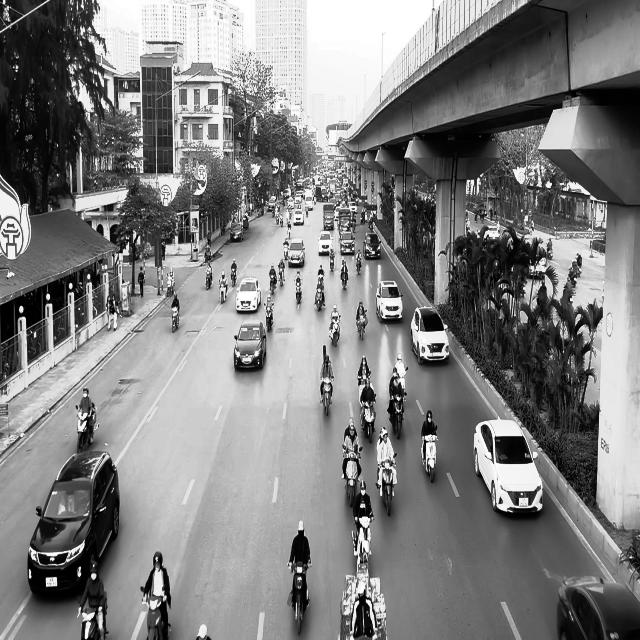car: (27, 449, 120, 595), (473, 418, 543, 515), (556, 574, 640, 640), (410, 305, 449, 365), (233, 321, 267, 371), (376, 279, 404, 322), (236, 277, 261, 312), (287, 238, 305, 267), (363, 232, 381, 260), (318, 231, 332, 255), (230, 222, 243, 241)
motorbike: (288, 561, 311, 634), (140, 586, 171, 640), (377, 453, 398, 516), (352, 513, 374, 571), (342, 446, 362, 507), (75, 402, 98, 453), (420, 426, 438, 482), (388, 393, 406, 439), (361, 395, 376, 443), (320, 376, 334, 416), (329, 315, 340, 347), (356, 311, 367, 340), (314, 283, 325, 311), (264, 302, 274, 330), (171, 306, 179, 332), (294, 280, 302, 304), (340, 266, 348, 289), (219, 281, 227, 304), (205, 266, 212, 290), (278, 263, 285, 286), (269, 274, 277, 294), (329, 250, 335, 271), (356, 255, 362, 274)
